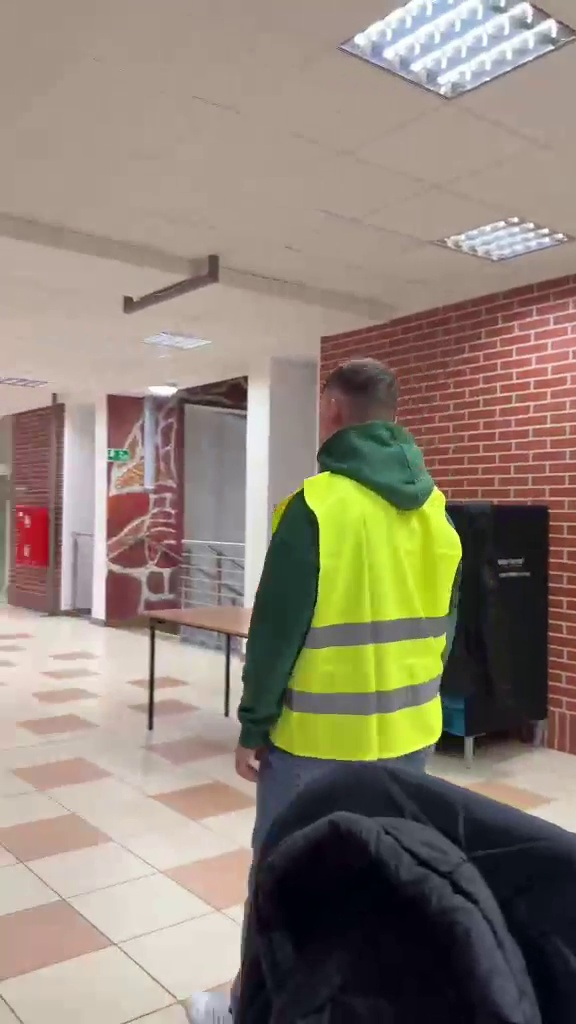vest: (245, 358, 455, 791)
